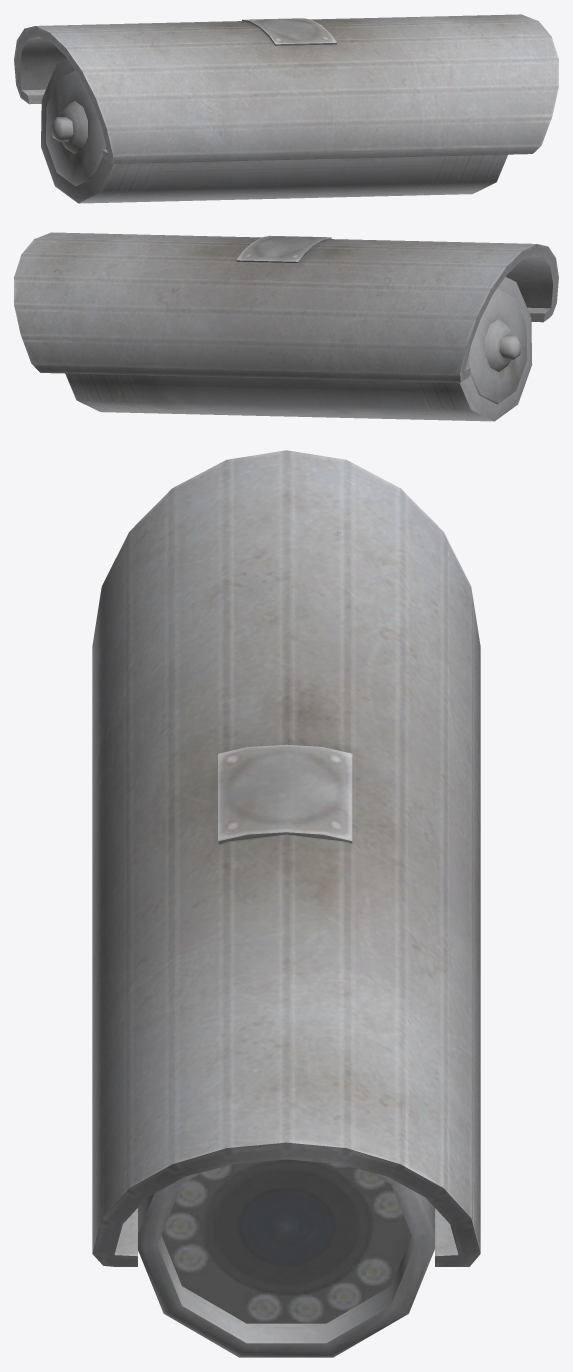
The model's file is SM_TC5Cam.obj.
3 renders of one model, top to bottom at view 1: azimuth 30°, elevation 25°; view 2: azimuth 150°, elevation 25°; view 3: azimuth 270°, elevation 25°, orthographic. The views are drawn at different scales.
Parts seen in each view (by area): view 1: SM_TC5Cam; view 2: SM_TC5Cam; view 3: SM_TC5Cam.
Boxes of the visible parts, x1=… form: SM_TC5Cam: x1=14, y1=14, x2=558, y2=203; SM_TC5Cam: x1=14, y1=232, x2=558, y2=421; SM_TC5Cam: x1=92, y1=450, x2=480, y2=1357.
Size of the model in its own units: 44.73 by 22.13 by 15.39.
1 material, 1 textured.
